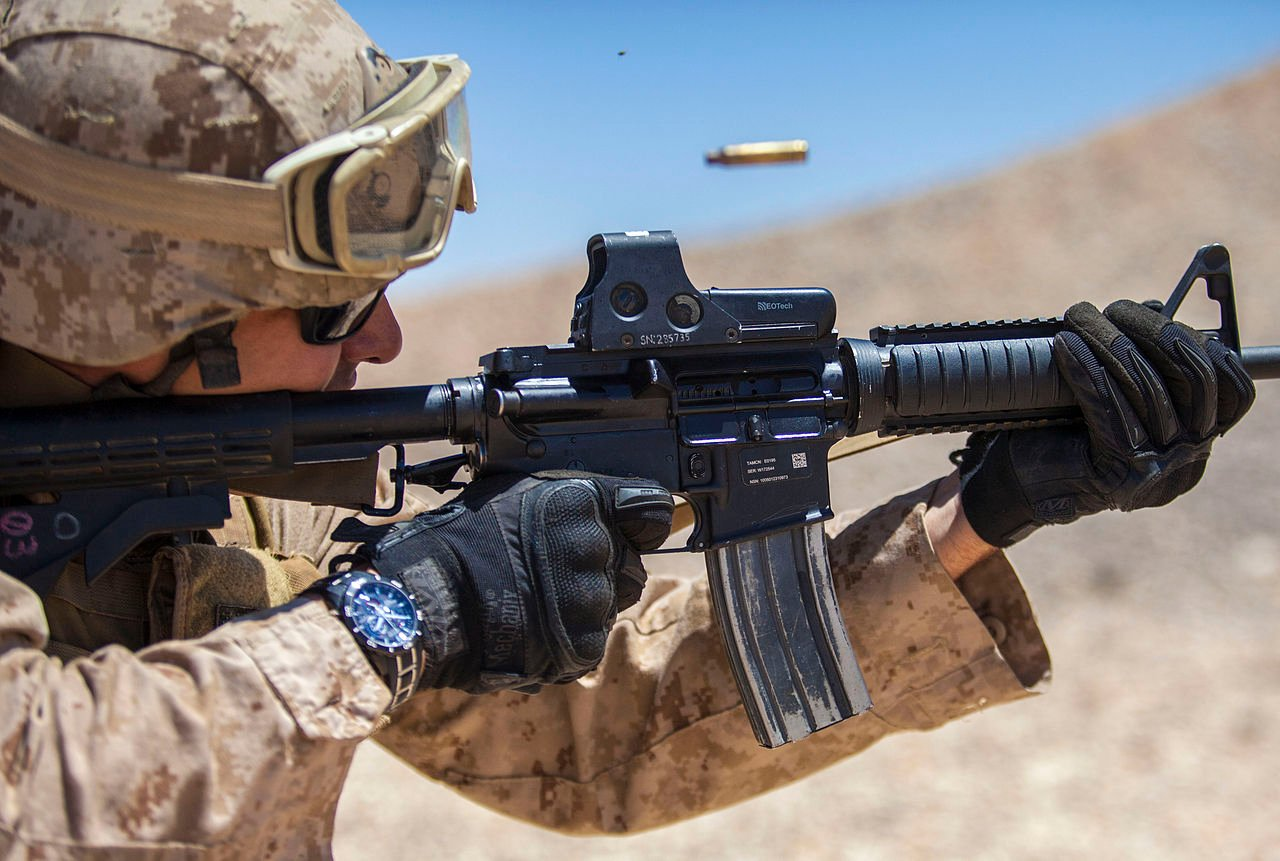m4_carbine: (471, 335, 868, 772)
